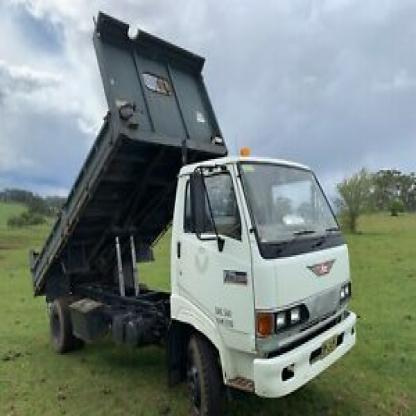dump_truck: (28, 7, 363, 414)
